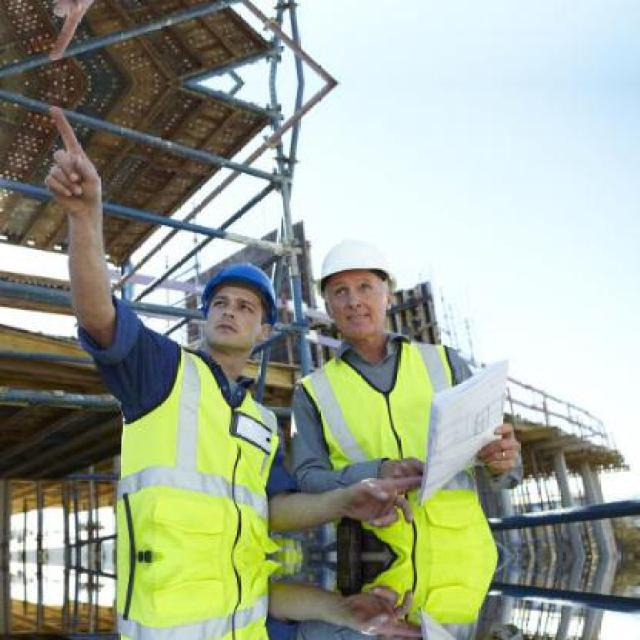helmet: (305, 217, 409, 349), (191, 244, 283, 366)
